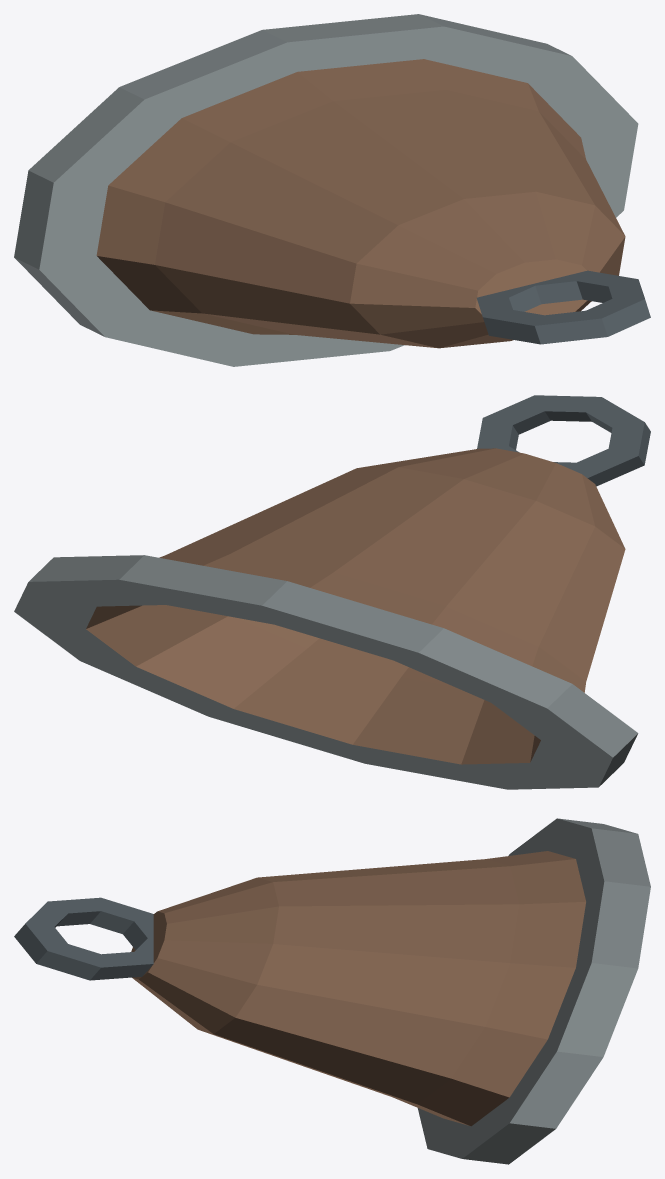
Rendered from fallen_bell.glb.
The picture shows the model from 3 angles, top to bottom: view 1: azimuth 30°, elevation 25°; view 2: azimuth 150°, elevation 25°; view 3: azimuth 270°, elevation 25°; orthographic projection. The views are drawn at different scales.
Parts seen in each view (by area): view 1: fallen_bell; view 2: fallen_bell; view 3: fallen_bell.
Part boxes in pixels (left/top/right/bottom): fallen_bell: left=14, top=14, right=650, bottom=366; fallen_bell: left=14, top=395, right=650, bottom=789; fallen_bell: left=14, top=818, right=650, bottom=1164.
Size of the model in its own units: 2.88 by 1.1 by 2.88.
